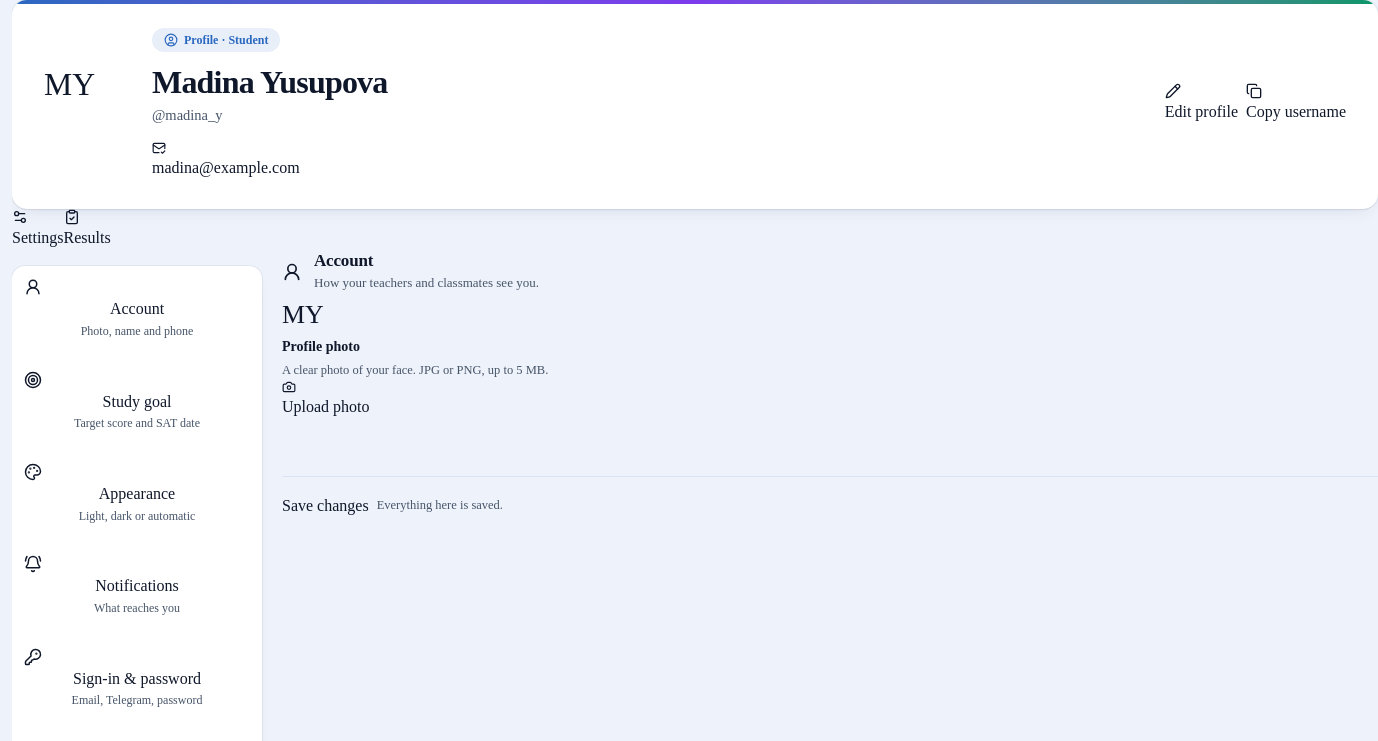
Test: A public learner › says a failed request failed, never that there are no results
What coordinates should you click on to do the following:
click the tab "Results"
I would click on:
 (87, 229)
Its box is [64,209,111,250].
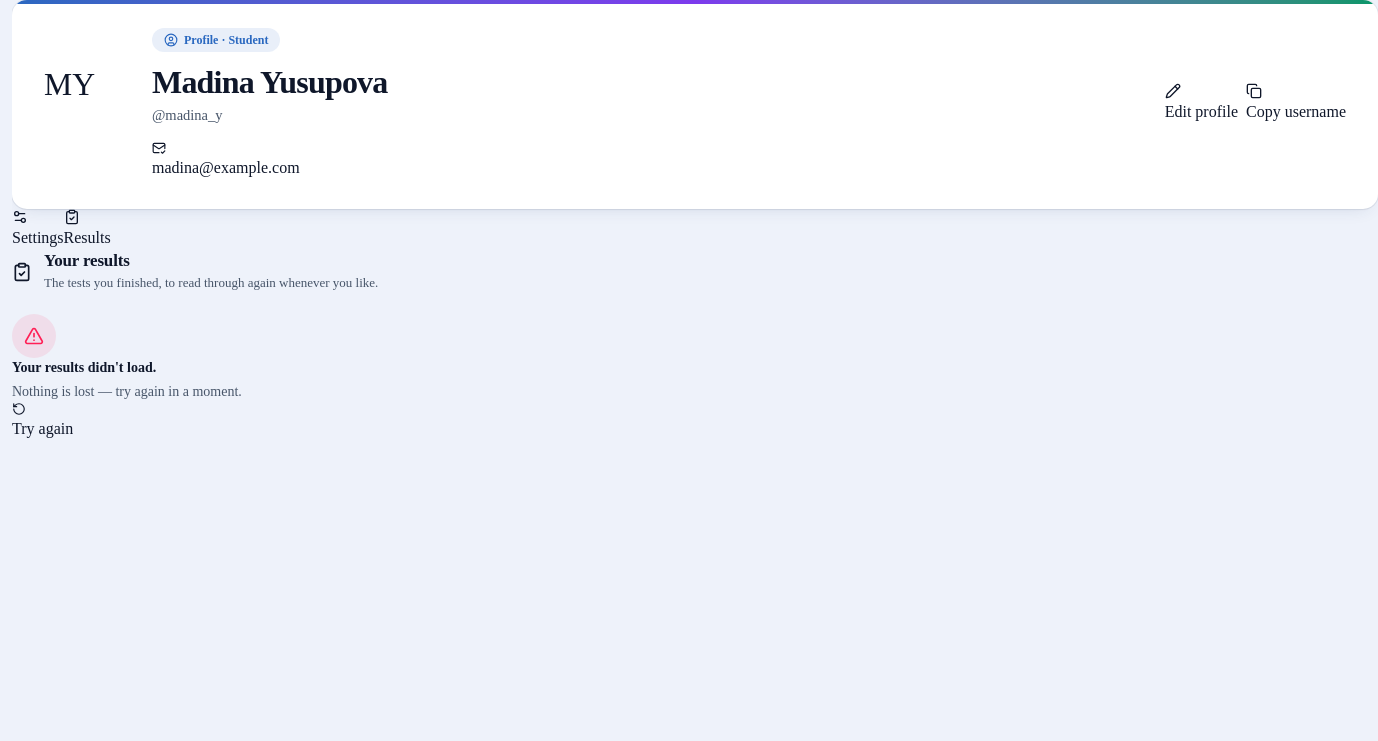
Result: the text "Your results didn't load." is shown at [12,360,156,375]
